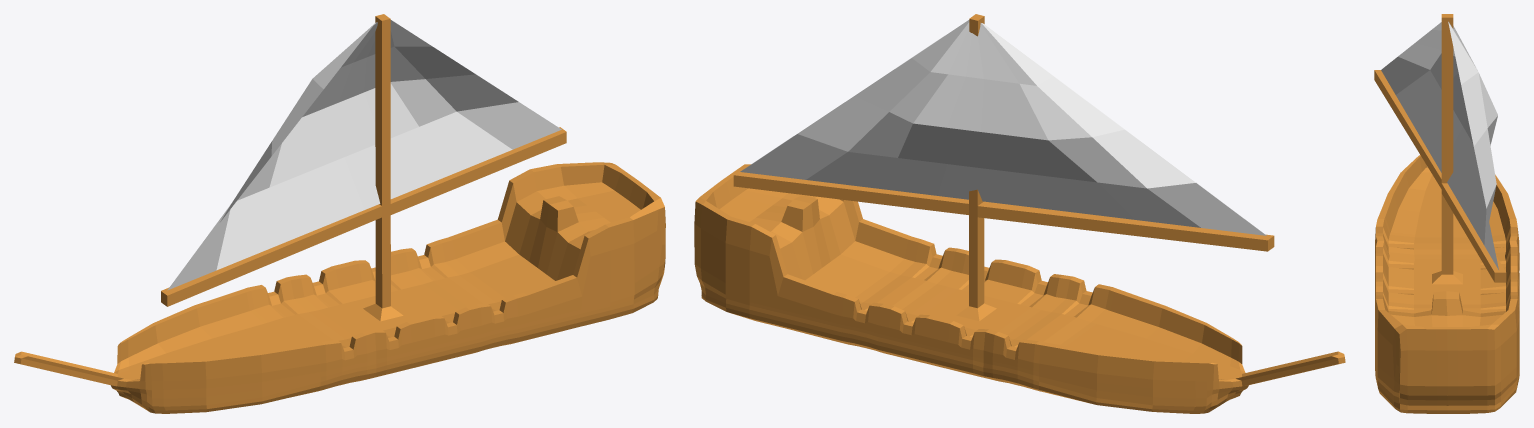
The model's file is sloop.glb.
3 views of the same model, side by side, from view 1: azimuth 30°, elevation 25°; view 2: azimuth 150°, elevation 25°; view 3: azimuth 270°, elevation 25° (orthographic). The views are drawn at different scales.
Parts seen in each view (by area): view 1: Cube; view 2: Cube; view 3: Cube.
Part boxes in pixels (x1=…): Cube: x1=14, y1=14, x2=665, y2=413; Cube: x1=694, y1=14, x2=1345, y2=413; Cube: x1=1374, y1=14, x2=1519, y2=413.
Size of the model in its own units: 26.85 by 13.72 by 6.04.
